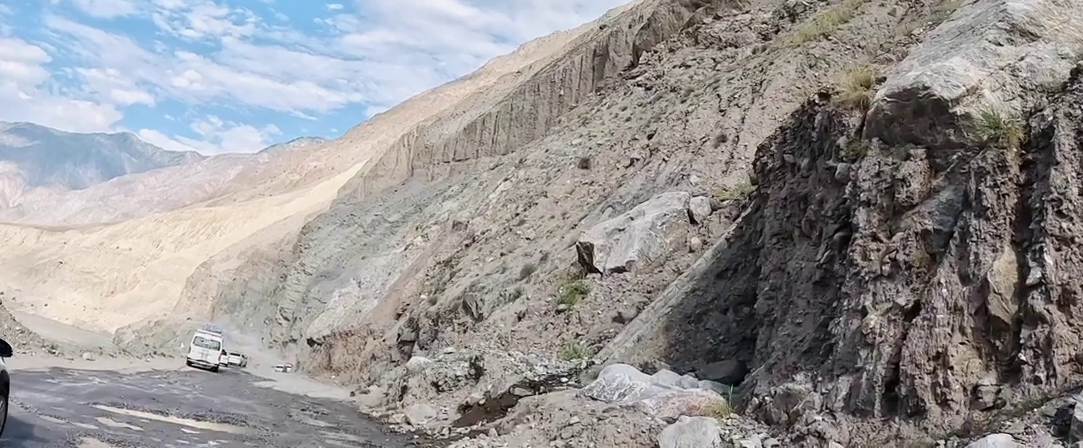unexpected: (198, 249, 604, 433)
